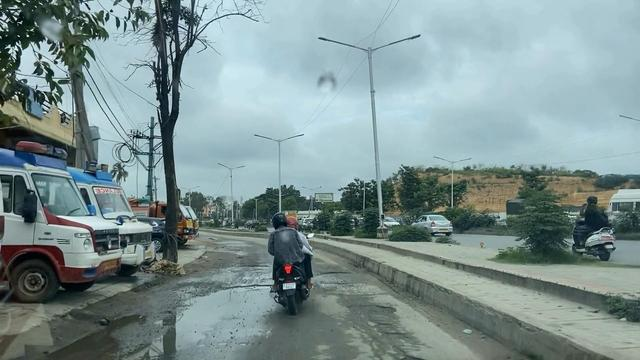LMV: (272, 213, 313, 313)
RoadDamages: (352, 300, 413, 359), (210, 253, 259, 288), (321, 267, 370, 297)
